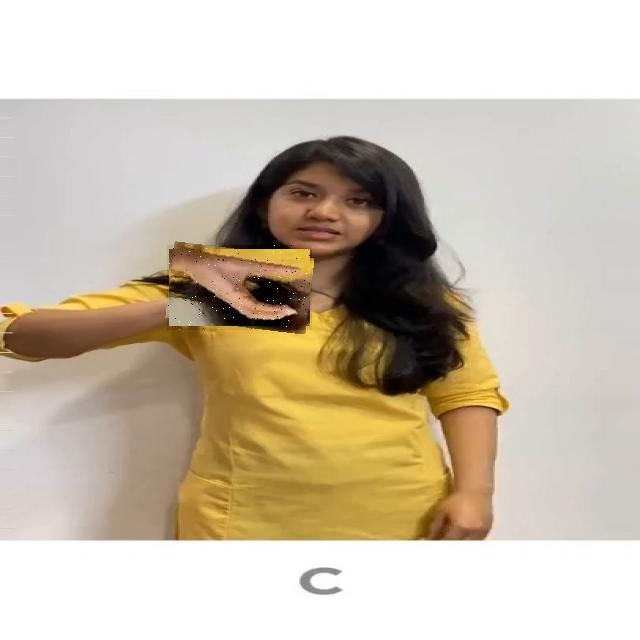C: (167, 245, 312, 330)
